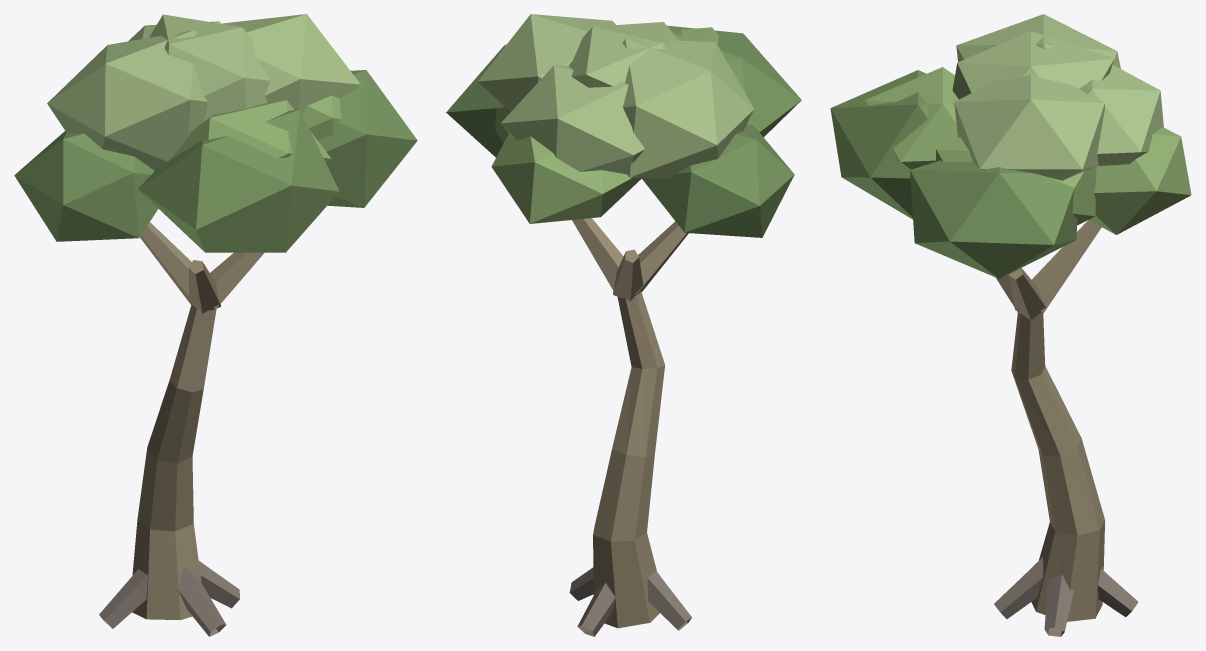
3 views of the same model, side by side, from view 1: azimuth 30°, elevation 25°; view 2: azimuth 150°, elevation 25°; view 3: azimuth 270°, elevation 25° (orthographic). The views are drawn at different scales.
Parts seen in each view (by area): view 1: model; view 2: model; view 3: model.
Boxes of the visible parts, x1,y1,x2,y2 form: model: (14, 14, 417, 636); model: (446, 14, 801, 636); model: (830, 14, 1191, 636).
Bounding box in the file's own units: 5.01 × 8.27 × 4.71.
